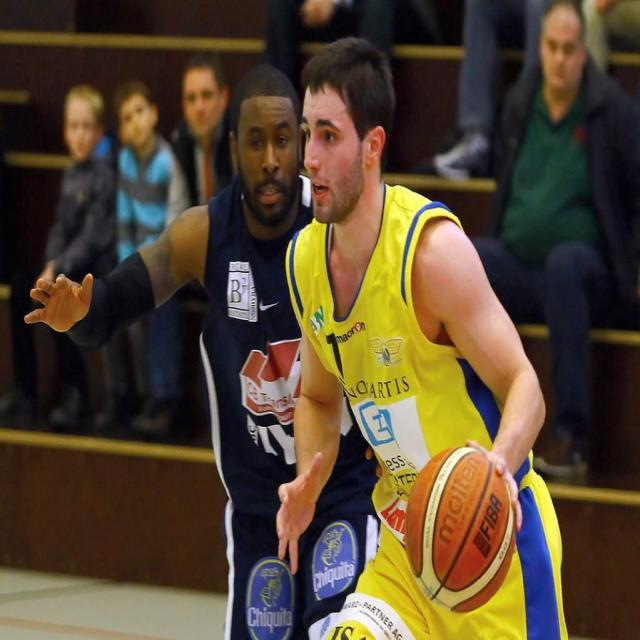rim: (407, 448, 517, 612)
